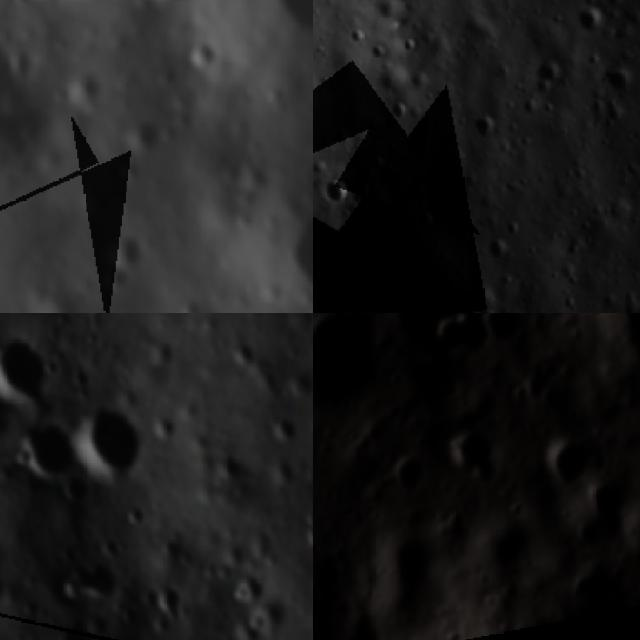crater: (259, 153, 313, 308), (79, 394, 145, 487), (0, 328, 50, 412), (18, 418, 79, 481), (59, 556, 119, 606), (423, 313, 489, 353), (121, 113, 170, 164), (106, 228, 156, 272), (65, 59, 110, 107), (313, 172, 358, 216), (448, 436, 494, 475), (0, 23, 19, 114), (58, 465, 97, 508), (266, 410, 304, 450), (347, 178, 384, 218), (551, 440, 584, 483), (51, 608, 94, 640), (531, 54, 562, 98), (461, 282, 500, 313), (573, 0, 606, 35), (187, 36, 220, 70), (464, 111, 499, 143), (483, 235, 519, 266), (383, 98, 412, 129), (410, 207, 440, 236), (603, 70, 637, 94), (297, 501, 313, 544), (346, 21, 367, 48), (504, 382, 529, 401), (368, 44, 386, 68), (403, 34, 416, 58)
